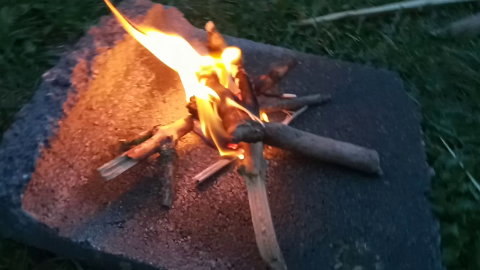fire: (99, 4, 255, 137)
